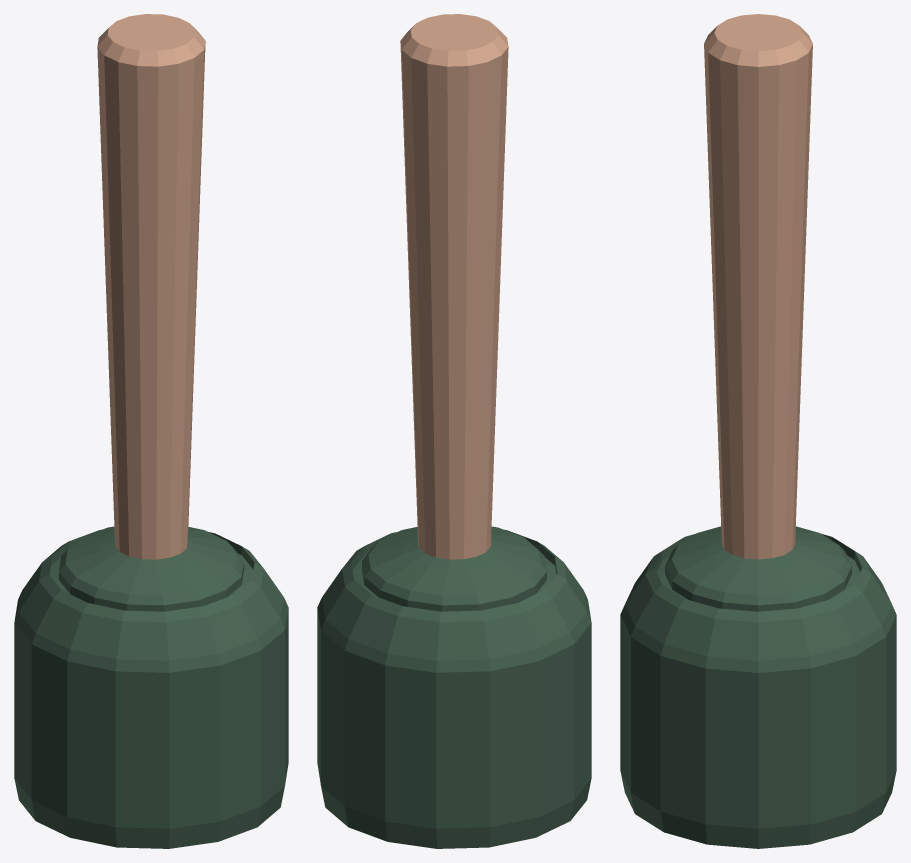
The model's file is Bathroom_Plumber.fbx.
3 renders of one model, left to right at view 1: azimuth 30°, elevation 25°; view 2: azimuth 150°, elevation 25°; view 3: azimuth 270°, elevation 25°, orthographic.
Visible parts, largest first — view 1: Bathroom_Plumber.001, Bathroom_Plumber; view 2: Bathroom_Plumber.001, Bathroom_Plumber; view 3: Bathroom_Plumber.001, Bathroom_Plumber.
Part boxes in pixels (x1,y1,x2,y2): Bathroom_Plumber.001: (14, 526, 288, 848); Bathroom_Plumber: (97, 14, 205, 559); Bathroom_Plumber.001: (317, 526, 591, 848); Bathroom_Plumber: (400, 14, 508, 559); Bathroom_Plumber.001: (620, 526, 896, 848); Bathroom_Plumber: (704, 14, 812, 559).
Size of the model in its own units: 20.84 by 63.23 by 20.84.
